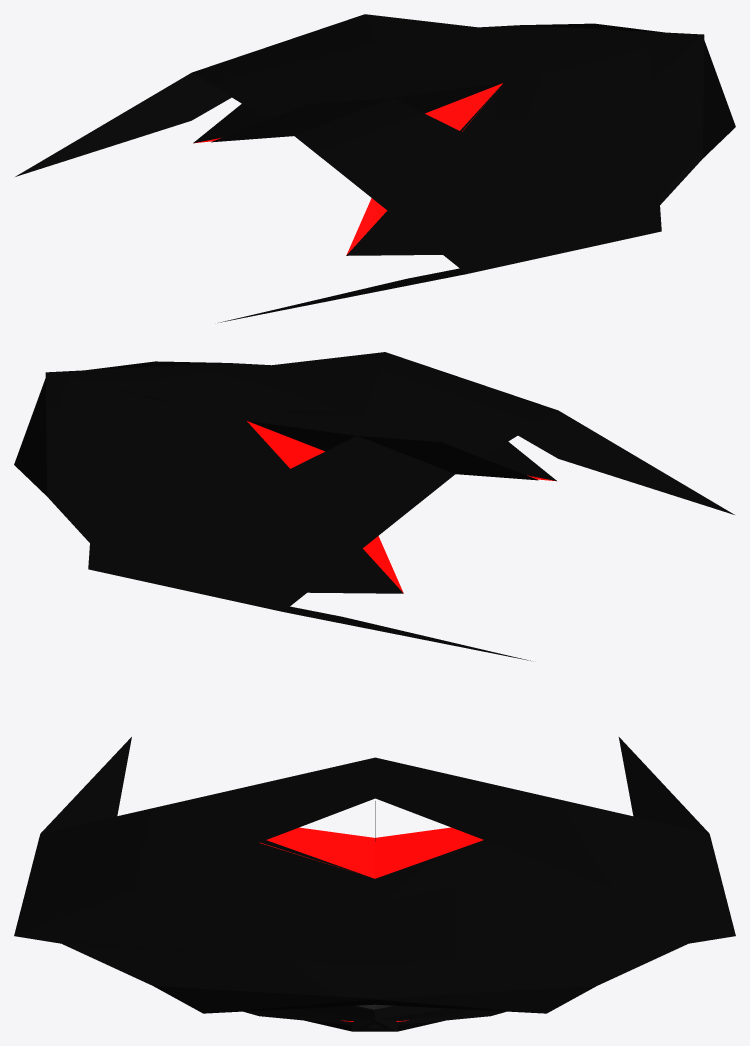
File: enemy11.fbx
3 views of the same model, one above another, from view 1: azimuth 30°, elevation 25°; view 2: azimuth 150°, elevation 25°; view 3: azimuth 270°, elevation 25° (orthographic). The views are drawn at different scales.
Parts seen in each view (by area): view 1: Cylinder; view 2: Cylinder; view 3: Cylinder.
Boxes of the visible parts, left/top/right/bottom form: Cylinder: left=15, top=14, right=735, bottom=322; Cylinder: left=14, top=352, right=734, bottom=660; Cylinder: left=14, top=737, right=735, bottom=1031.
Size of the model in its own units: 9.77 by 1.57 by 8.51.
